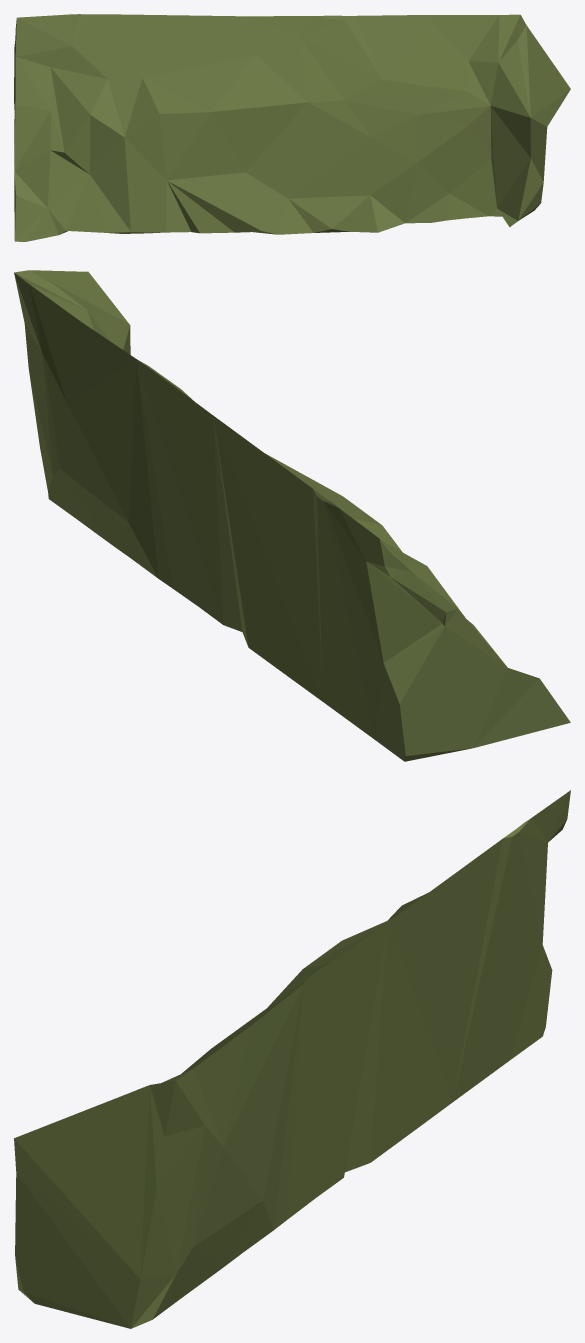
The model's file is ground_47.fbx.
3 renders of one model, top to bottom at view 1: azimuth 30°, elevation 25°; view 2: azimuth 150°, elevation 25°; view 3: azimuth 270°, elevation 25°, orthographic. The views are drawn at different scales.
Parts seen in each view (by area): view 1: ground_47; view 2: ground_47; view 3: ground_47.
Boxes of the visible parts, box(x1,y1,x2,y2) form: ground_47: box(14, 14, 570, 241); ground_47: box(14, 270, 570, 761); ground_47: box(14, 790, 570, 1328).
Bounding box in the file's own units: 7.61 × 2.66 × 5.18.
